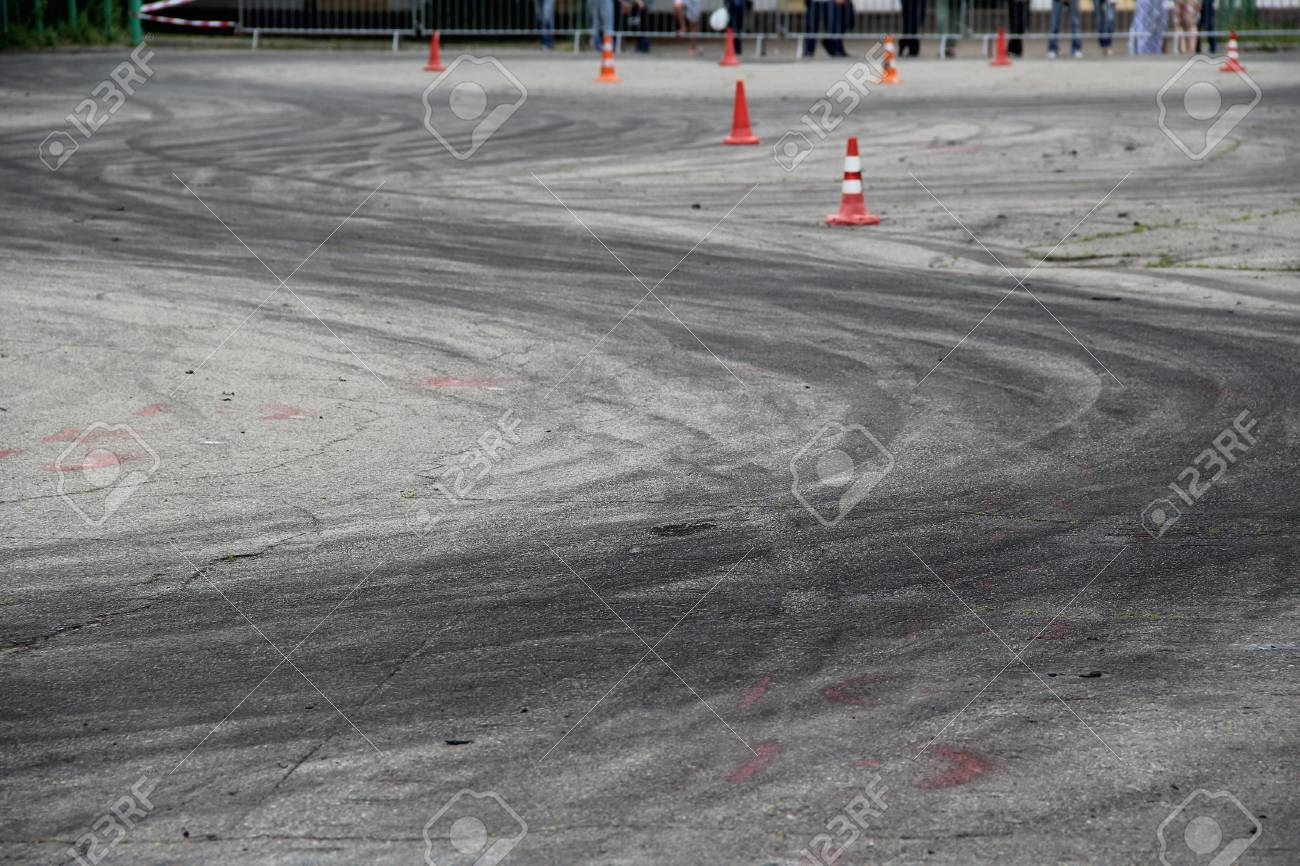cone: (821, 138, 877, 233), (719, 79, 768, 150), (589, 35, 625, 87), (418, 28, 452, 76), (874, 36, 902, 89), (713, 25, 746, 68), (1218, 27, 1248, 72), (985, 27, 1015, 69)
